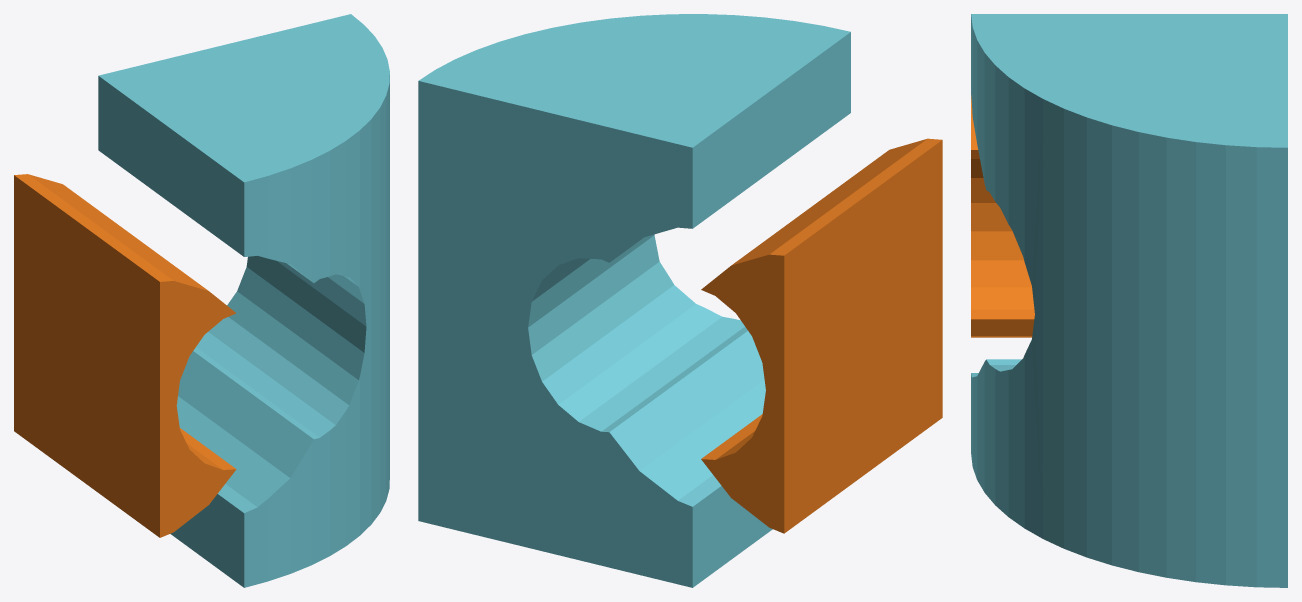
The model's file is floor cable holder.obj.
3 renders of one model, left to right at view 1: azimuth 30°, elevation 25°; view 2: azimuth 150°, elevation 25°; view 3: azimuth 270°, elevation 25°, orthographic. The views are drawn at different scales.
Visible parts, largest first — view 1: group_0_7720667, group_0_16089887; view 2: group_0_7720667, group_0_16089887; view 3: group_0_7720667, group_0_16089887.
Part boxes in pixels (<box>): group_0_7720667: <box>98,14,389,587</box>; group_0_16089887: <box>14,174,236,537</box>; group_0_7720667: <box>418,14,850,587</box>; group_0_16089887: <box>701,138,942,533</box>; group_0_7720667: <box>971,14,1287,587</box>; group_0_16089887: <box>971,95,1034,337</box>.
Bounding box in the file's own units: 20 × 23 × 15.
